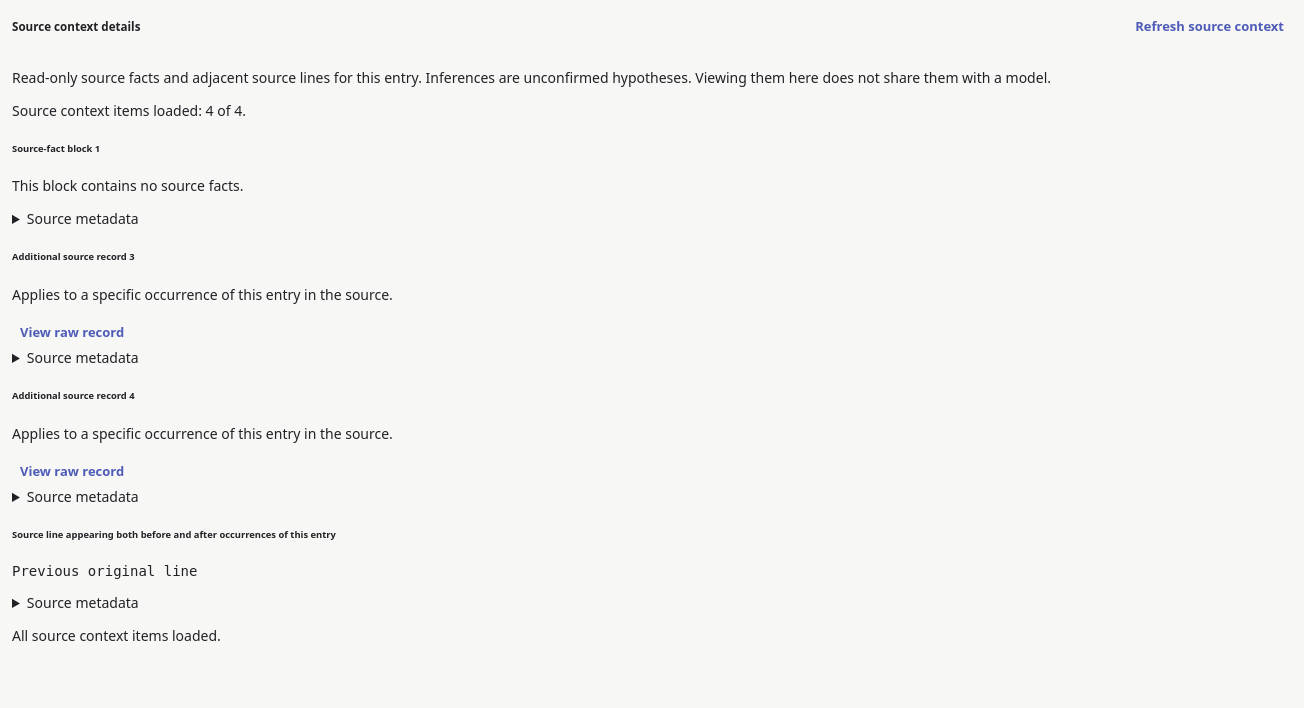
Test: reads only the explicitly opened original record and preserves its literal text
This screenshot has width=1304, height=708.
Expected: the heading "Additional source record 3" is shown, [12, 250, 135, 263]
Expected: the text "Previous original line" is shown, [12, 562, 197, 578]
What coordinates should you click on to do the following:
click the button "View raw record" below "Additional source record 3"
I would click on:
 (72, 333)
Its box is [12, 318, 132, 348].
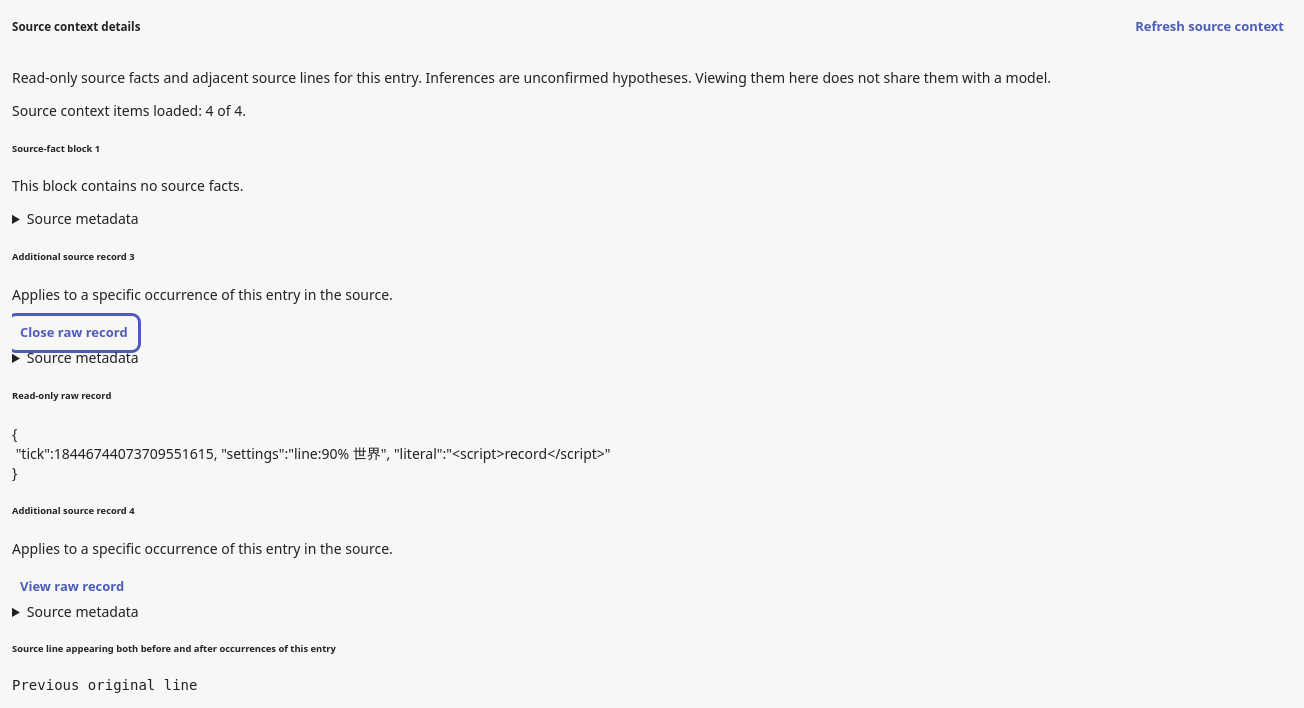
Expected: the button "Close raw record" is expanded
What coordinates should you click on to do the following:
click the button "Close raw record"
I would click on:
 (74, 333)
Its box is [12, 318, 136, 348].
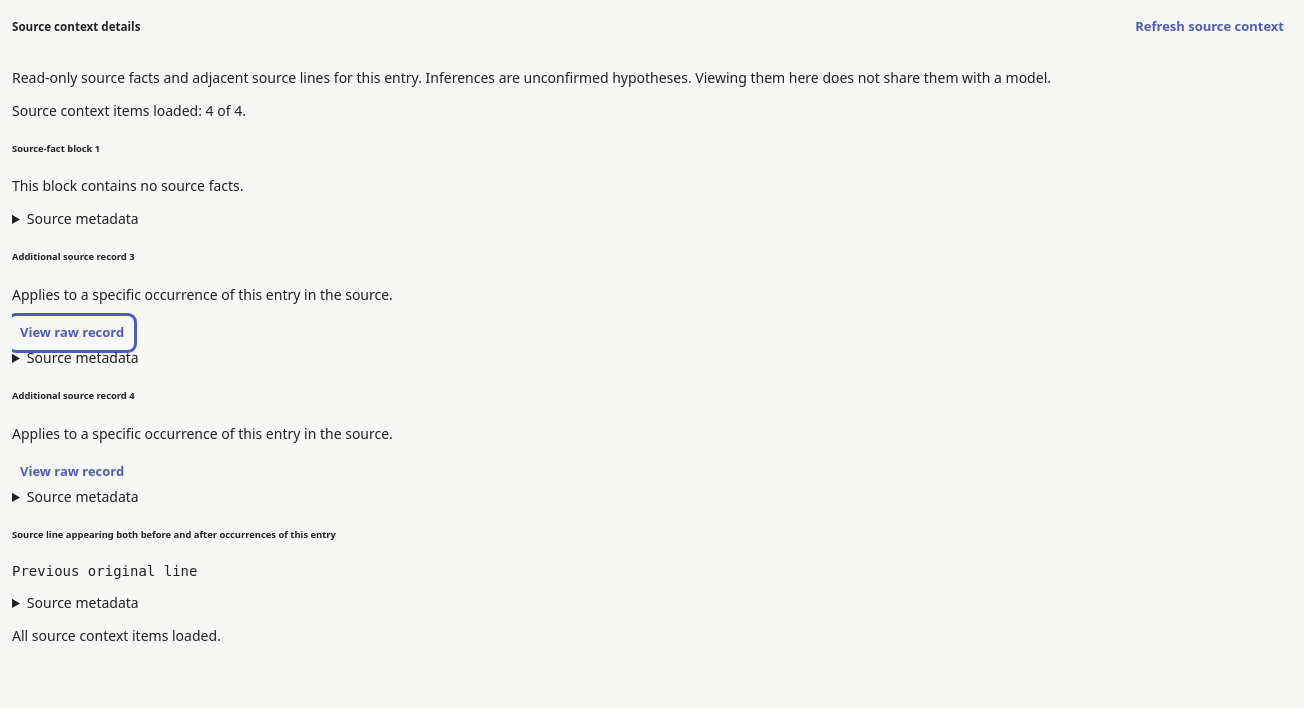
Expected: the heading "Read-only raw record" is gone
